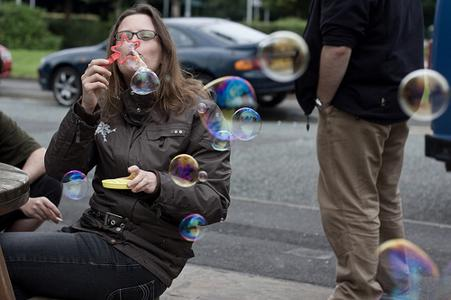person: (2, 6, 232, 300)
